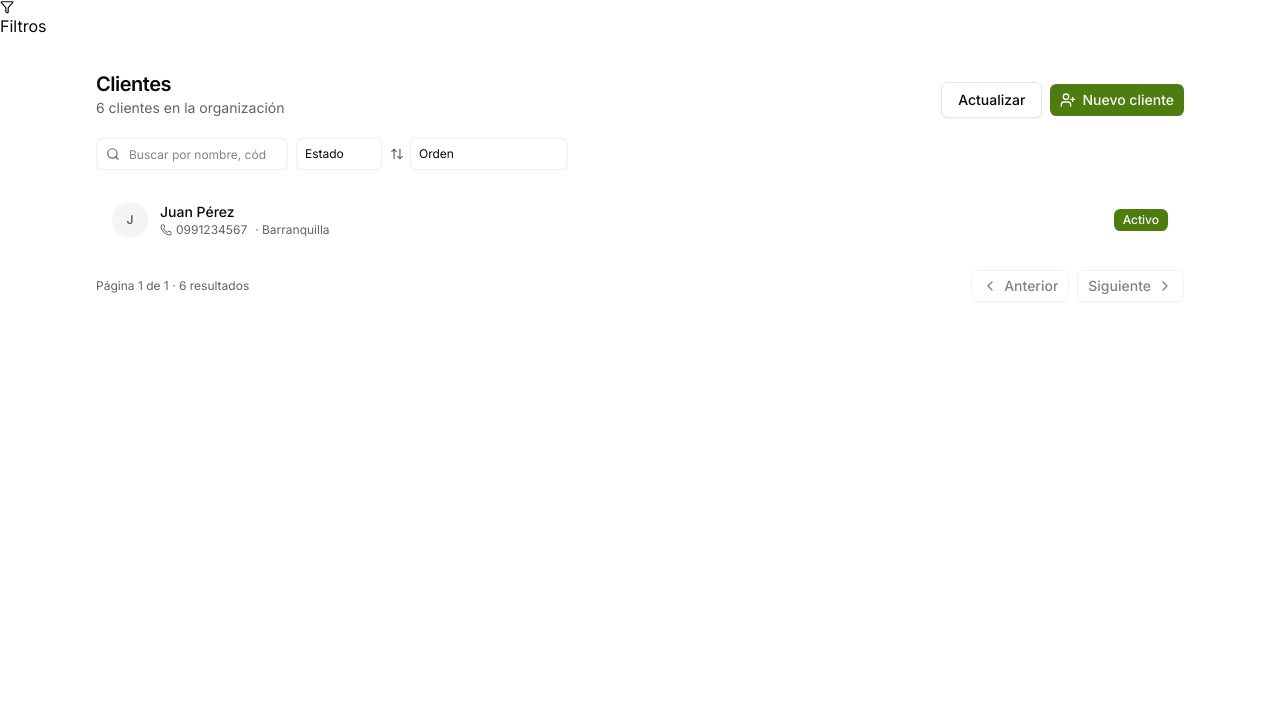
Test case: Clientes + filtro global: borrador y aplicación (FR-005) › los filtros aplicados sobreviven a cerrar y reabrir el panel
Click the button "Filtros" at (23, 19), box x1=0 y1=0 x2=46 y2=38
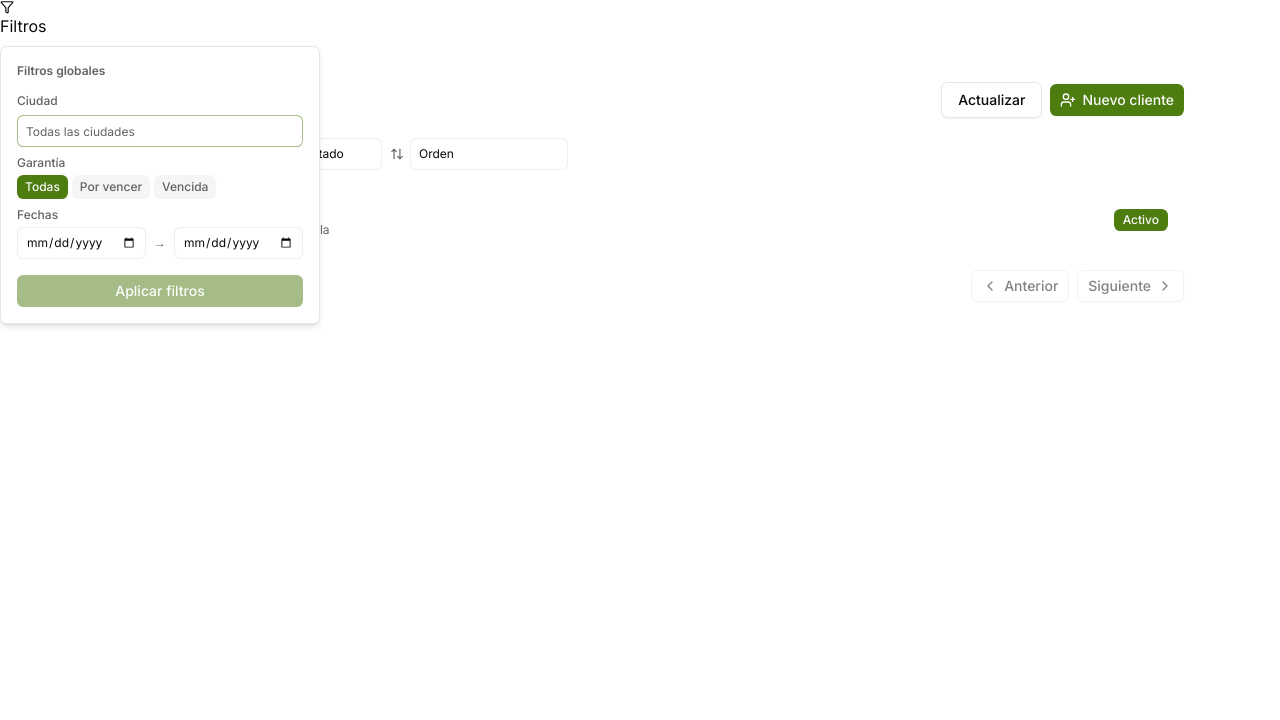
Check: the field labelled "Ciudad" is shown
Type "Barranquilla" into the field labelled "Ciudad" at (160, 131), box x1=17 y1=115 x2=303 y2=147
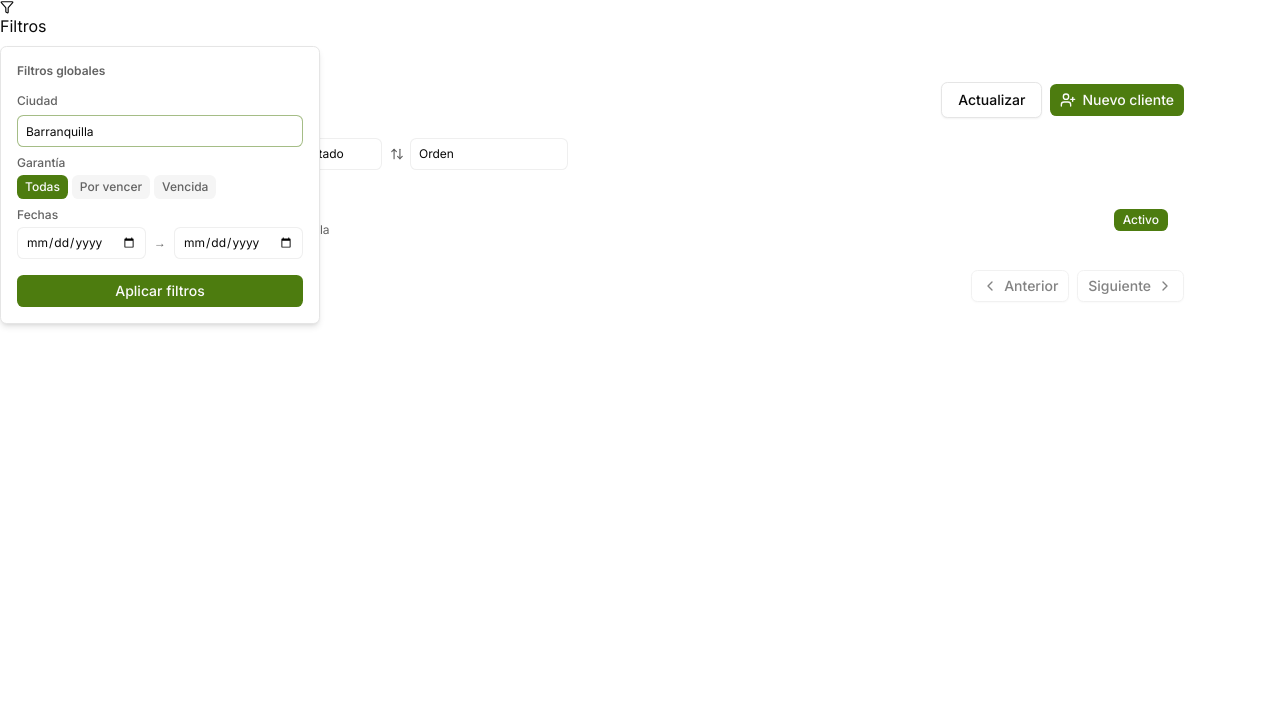
Click the button "Aplicar filtros" at (160, 291), box x1=17 y1=275 x2=303 y2=307
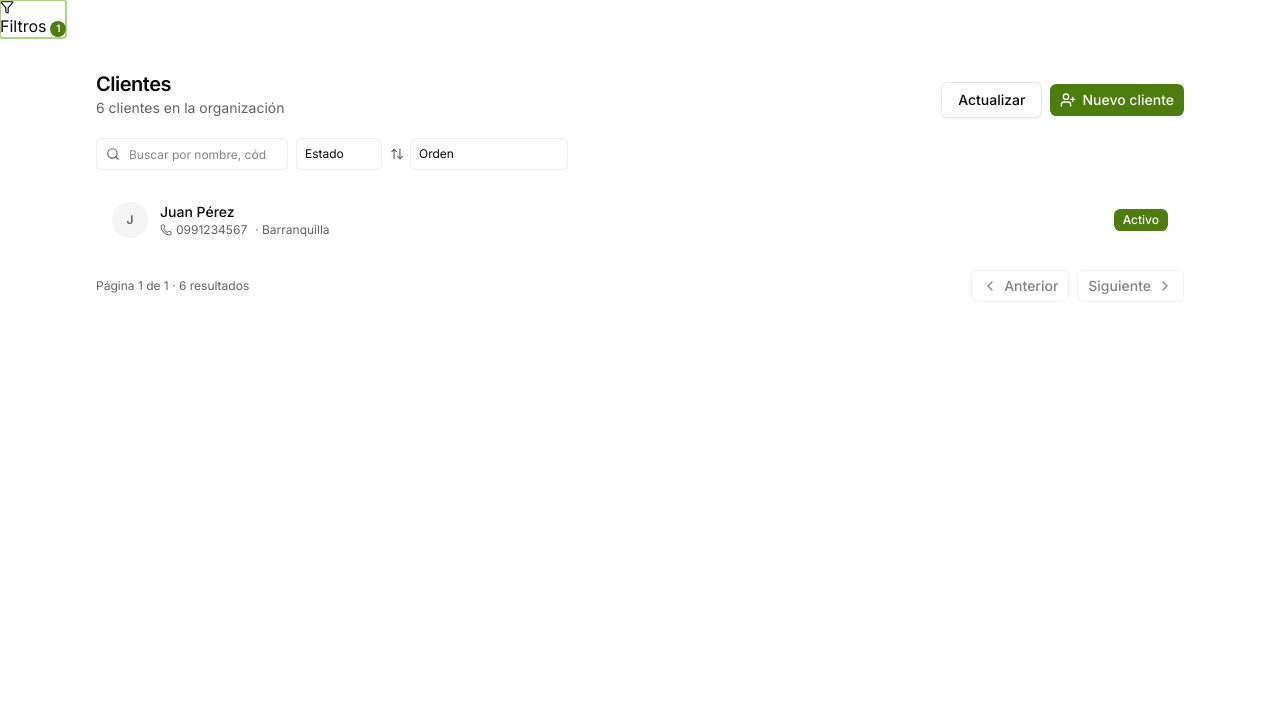
Check: the text with test id "global-filter-count" reads "1", box x1=56 y1=22 x2=60 y2=34
Click the button "Filtros 1" at (33, 19), box x1=0 y1=0 x2=66 y2=38
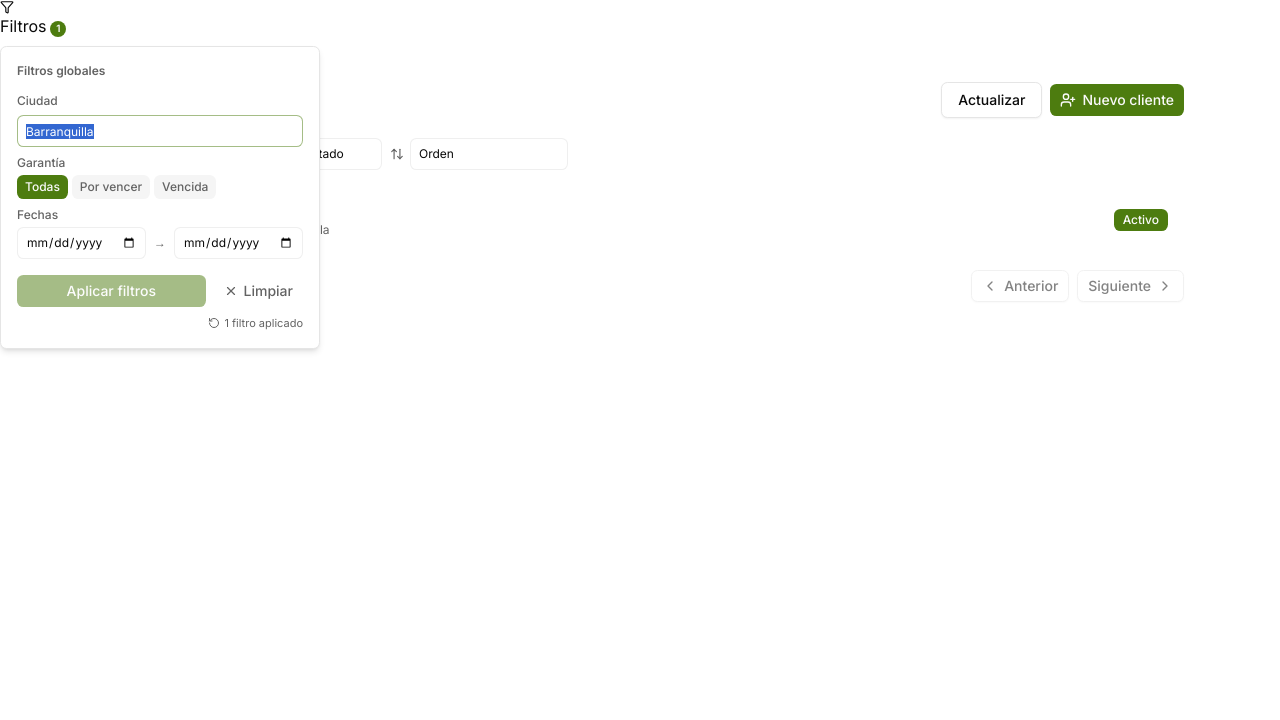
Check: the field labelled "Ciudad" holds "Barranquilla", box x1=17 y1=115 x2=303 y2=147
